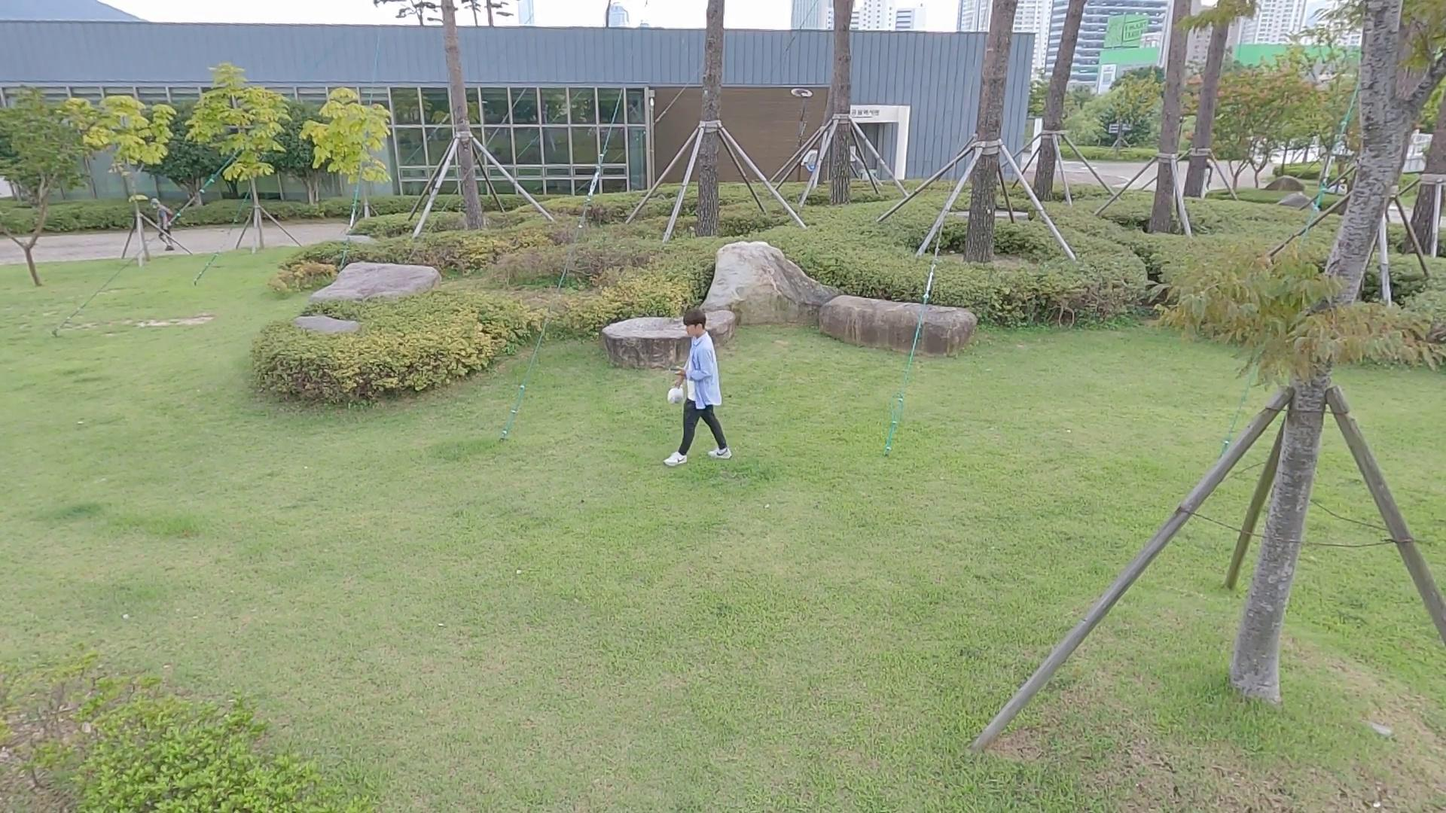person: (665, 308, 733, 468)
trash: (667, 384, 685, 404)
